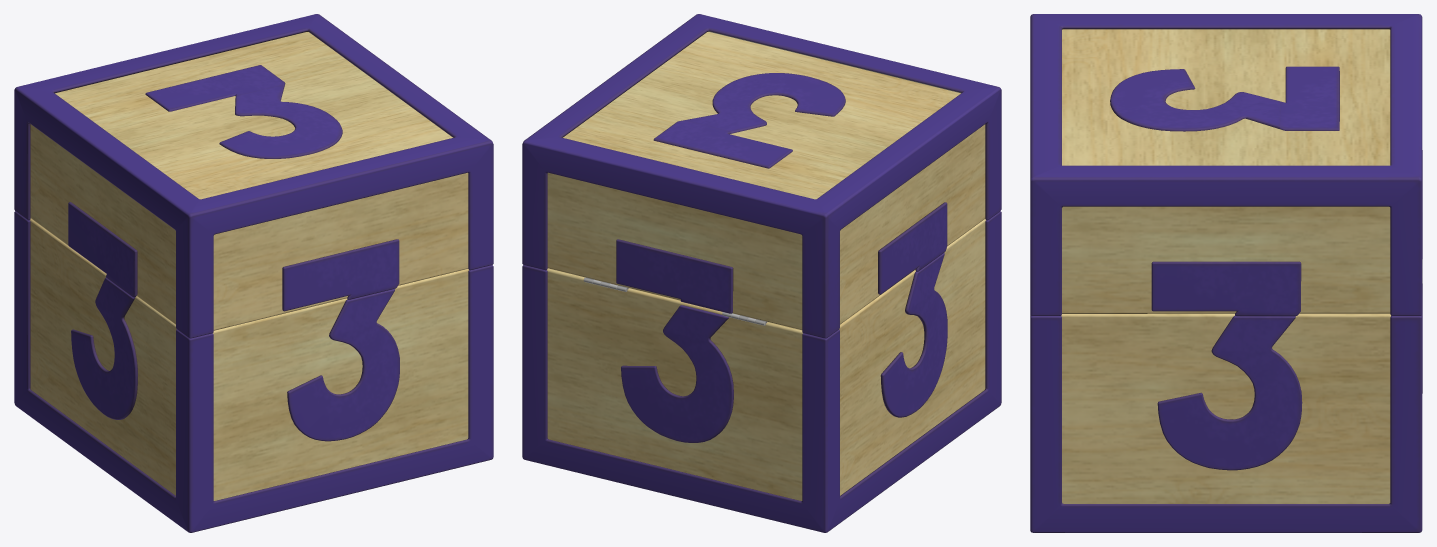
File: prp_toyChest03_model.FBX
3 renders of one model, left to right at view 1: azimuth 30°, elevation 25°; view 2: azimuth 150°, elevation 25°; view 3: azimuth 270°, elevation 25°, orthographic. The views are drawn at different scales.
Visible parts, largest first — view 1: prp_toyChest03_model; view 2: prp_toyChest03_model; view 3: prp_toyChest03_model.
Part boxes in pixels (x1,y1,x2,y2): prp_toyChest03_model: (14,14,493,532); prp_toyChest03_model: (522,14,1001,532); prp_toyChest03_model: (1030,14,1422,532).
Size of what is drawn, in the model's own units: 22.83 by 22.83 by 22.8.
